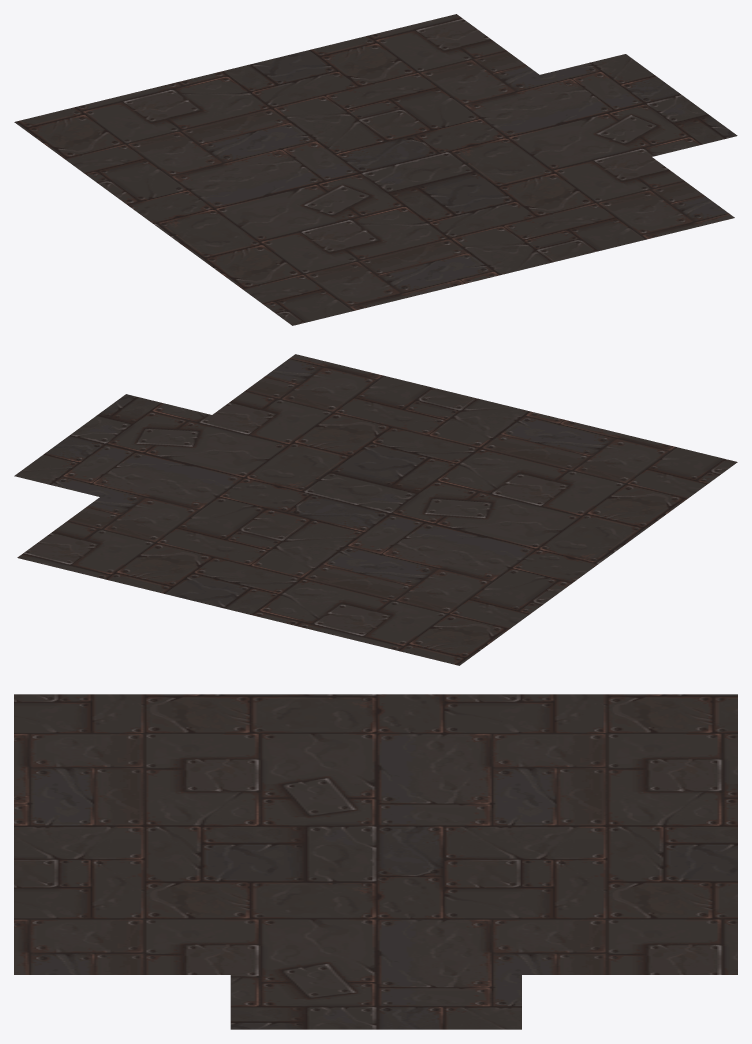
The model's file is sn_jixie_pingtai_003.FBX.
The picture shows the model from 3 angles, top to bottom: view 1: azimuth 30°, elevation 25°; view 2: azimuth 150°, elevation 25°; view 3: azimuth 270°, elevation 25°; orthographic projection. The views are drawn at different scales.
Parts seen in each view (by area): view 1: sn_jixie_pingtai_003; view 2: sn_jixie_pingtai_003; view 3: sn_jixie_pingtai_003.
Part boxes in pixels (box(x1,y1,x2,y2)): sn_jixie_pingtai_003: box(14, 14, 737, 325); sn_jixie_pingtai_003: box(14, 354, 737, 665); sn_jixie_pingtai_003: box(14, 694, 737, 1029).
Size of the model in its own units: 51.64 by 47.12 by 1.91e-06.
